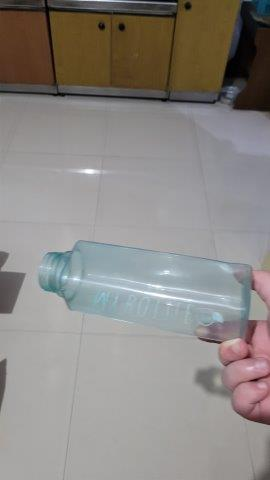botolplastik: (34, 240, 253, 348)
